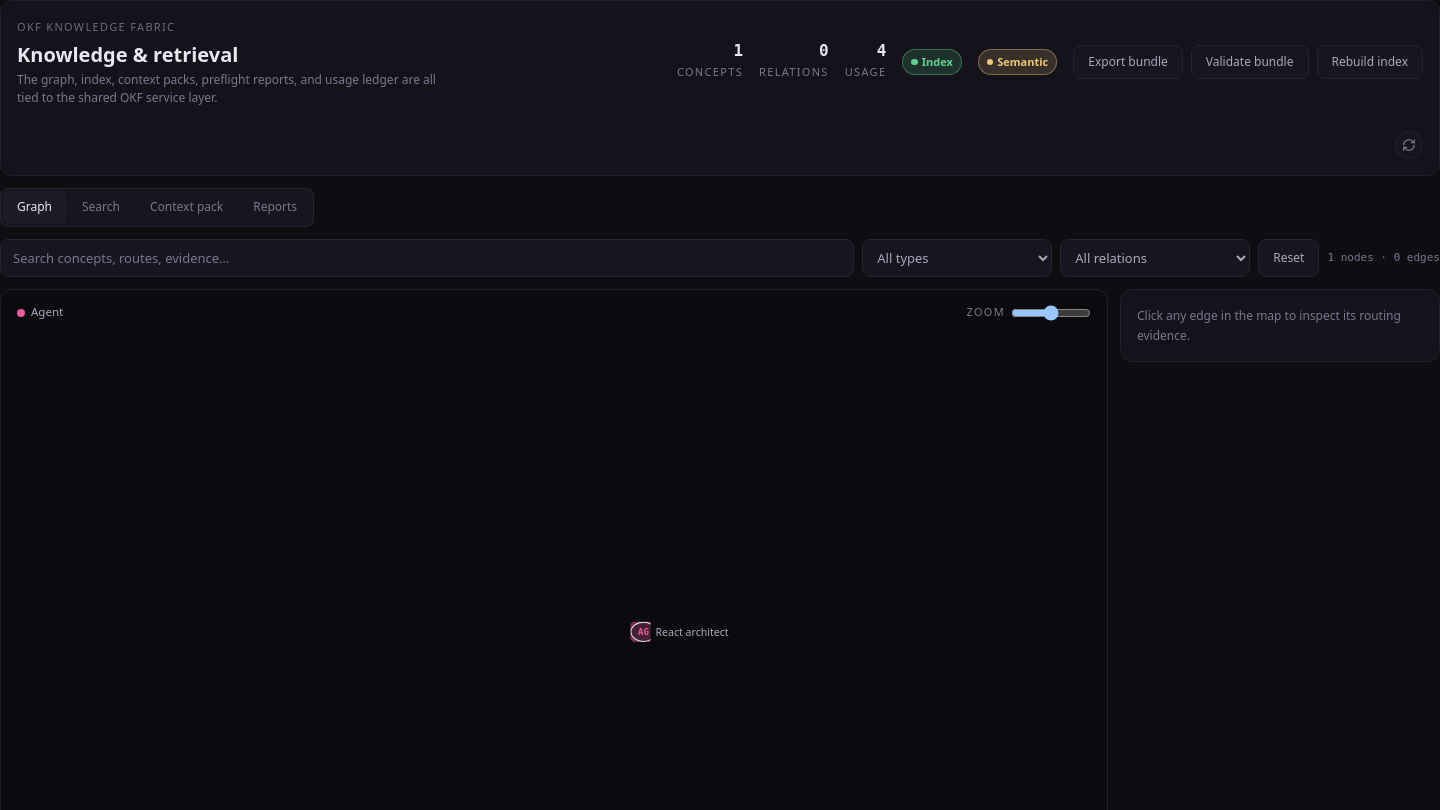
KnowledgeModule › hands a search result into a context pack and honors the selected budget
The width and height of the screenshot is (1440, 810).
Expected: the button "React architect" is shown, [630, 622, 650, 642]
Click the button "Search". click: click(101, 207)
box: [68, 191, 134, 224]
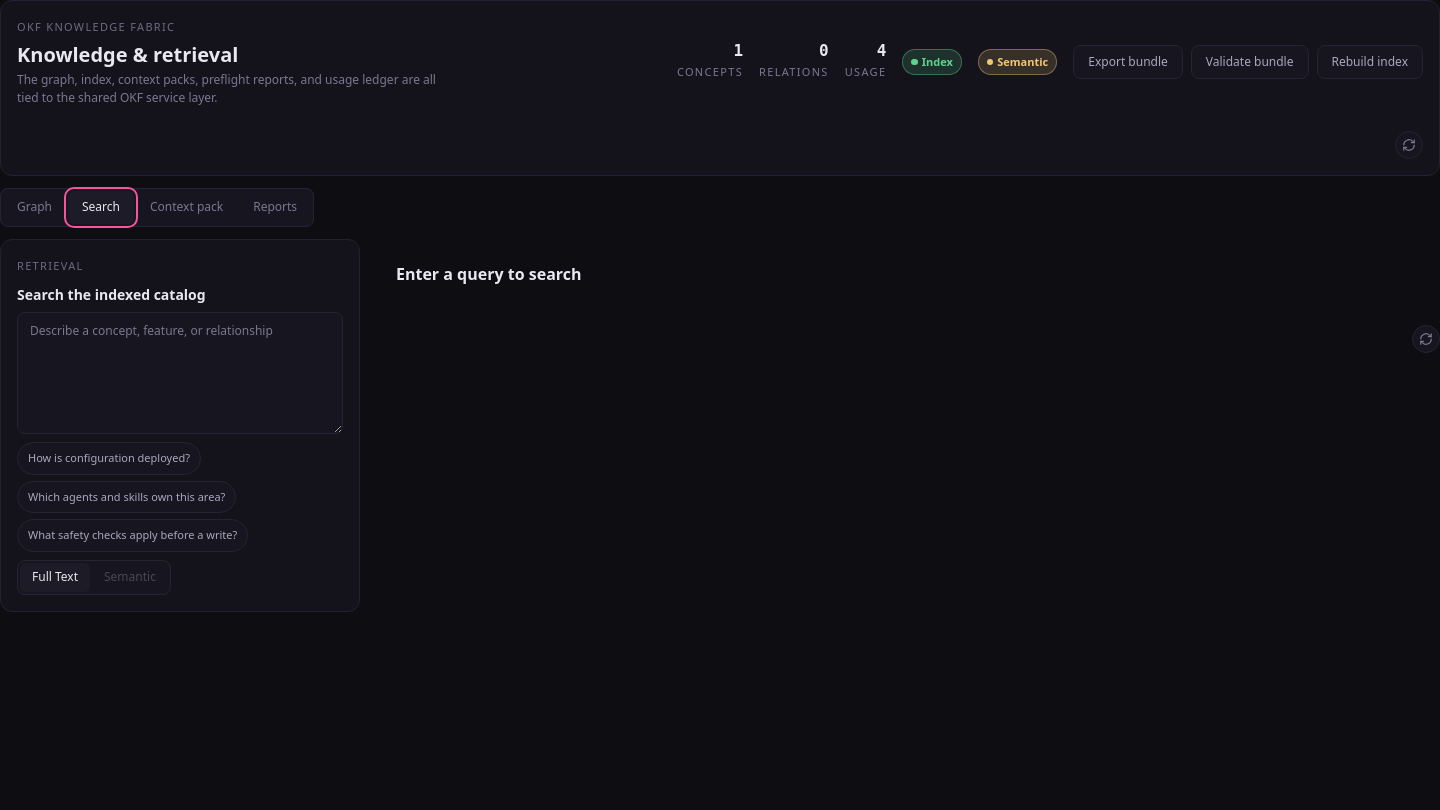
Expected: the button "Semantic" is disabled, [92, 563, 168, 592]
Type "deploy config" into the text box with placeholder "Describe a concept, feature, or relationship". click: (180, 373)
box: [17, 312, 343, 434]
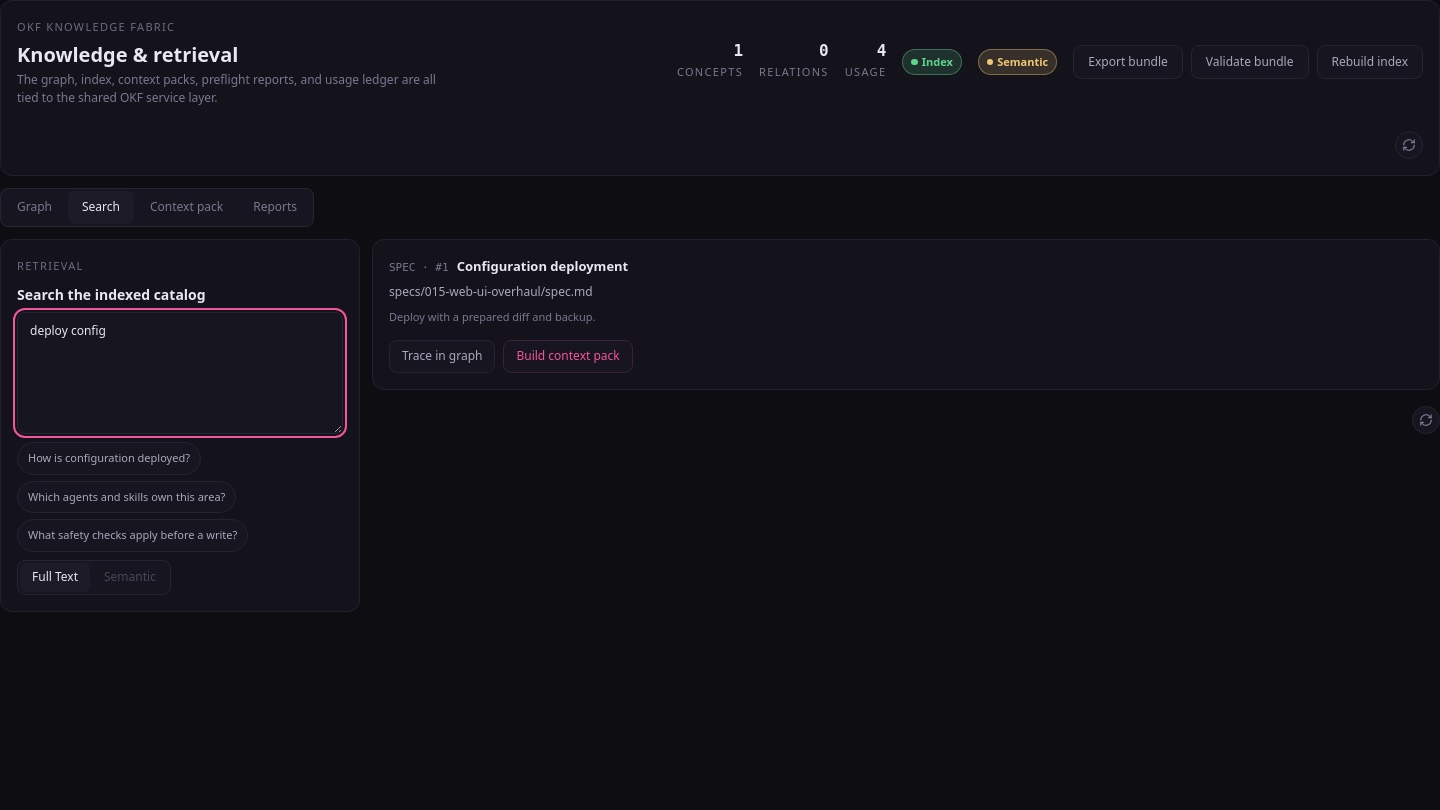
Expected: the text "Configuration deployment" is shown, [457, 256, 628, 276]
Click the button "Build context pack". click: click(568, 356)
box: [503, 340, 633, 373]
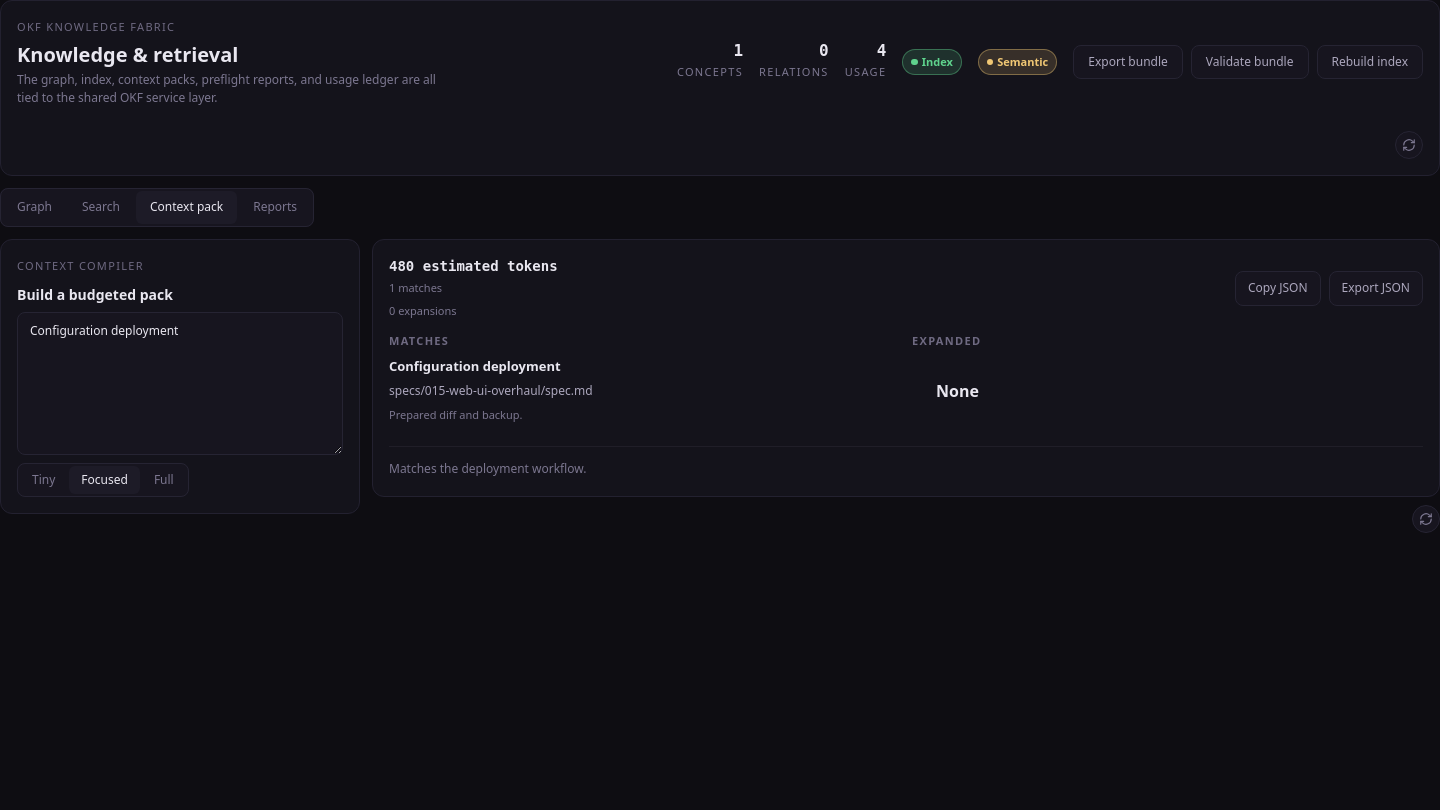
Expected: the text "480 estimated tokens" is shown, [389, 256, 558, 276]
Click the button "tiny". click: click(44, 480)
box: [20, 466, 67, 494]
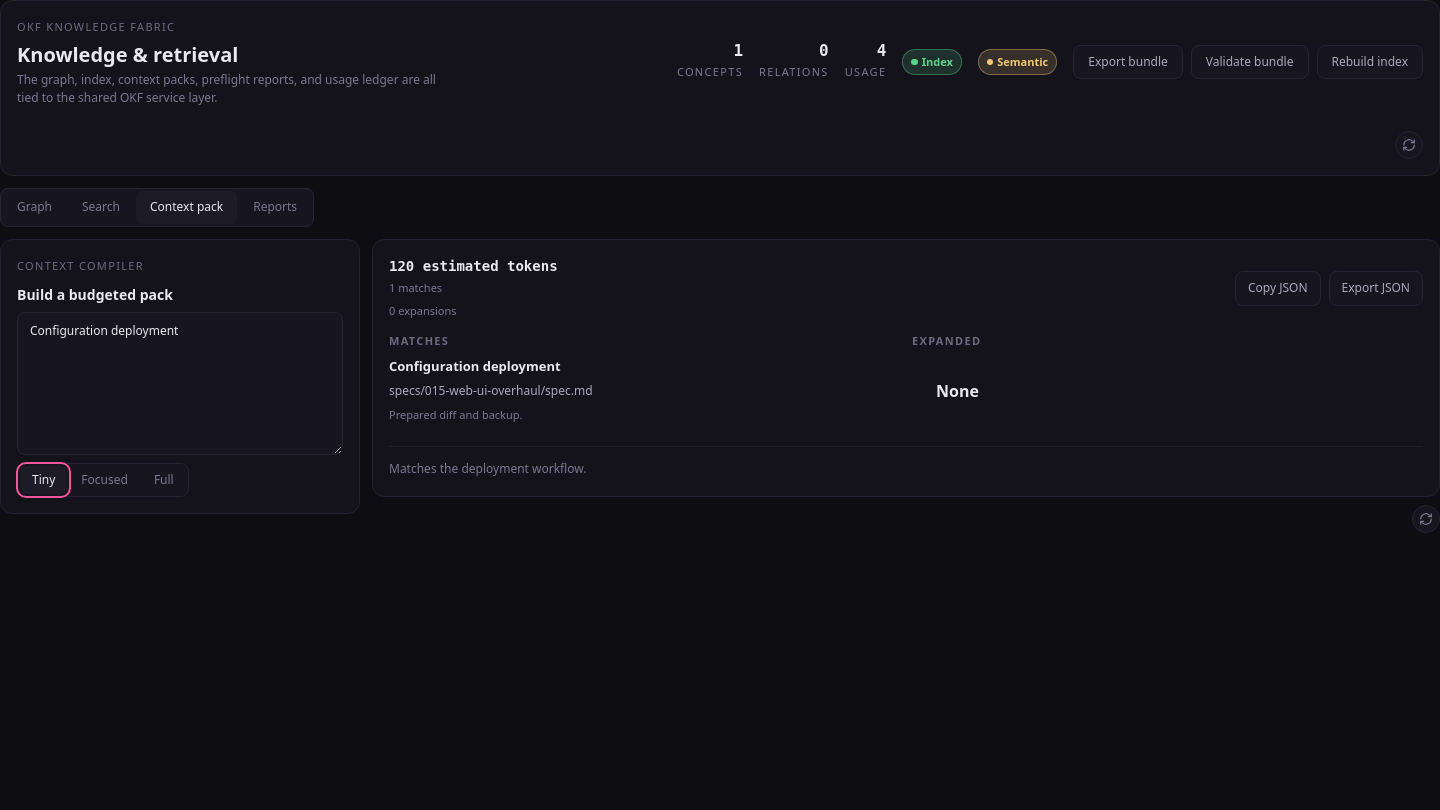
Expected: the text "120 estimated tokens" is shown, [389, 256, 558, 276]
